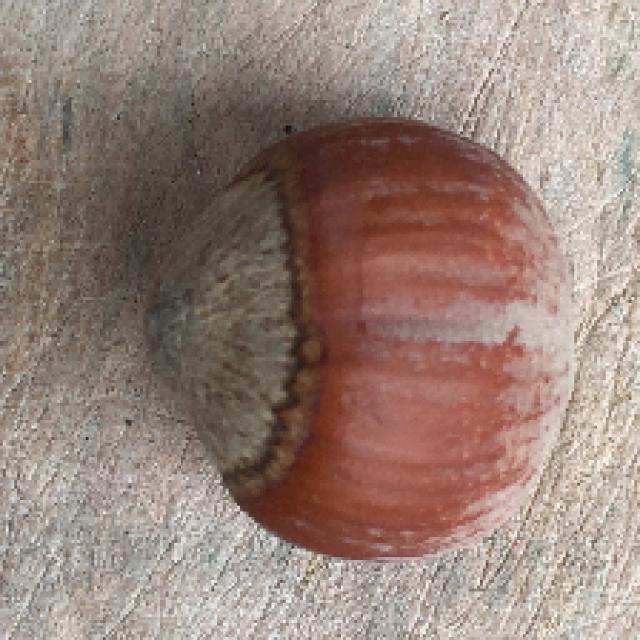qualityHazelnut: (147, 114, 580, 566)
